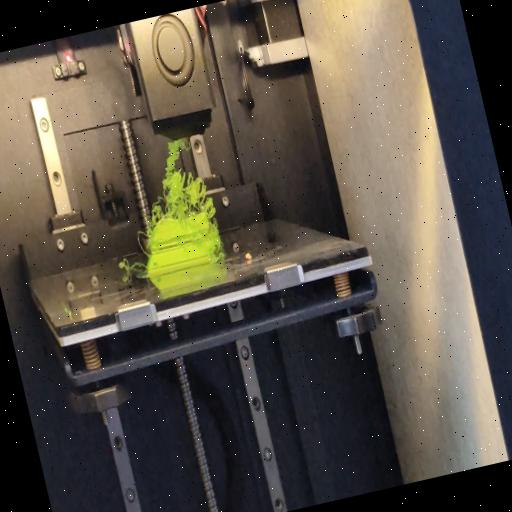spaghetti: (132, 128, 219, 230), (207, 219, 228, 262), (115, 255, 149, 276), (132, 228, 152, 258)
